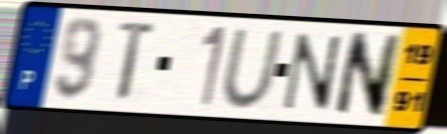1: (199, 24, 229, 110)
9: (51, 14, 102, 105)
N: (330, 29, 405, 120), (280, 30, 344, 115)
T: (116, 18, 160, 106)
U: (219, 27, 286, 112)
